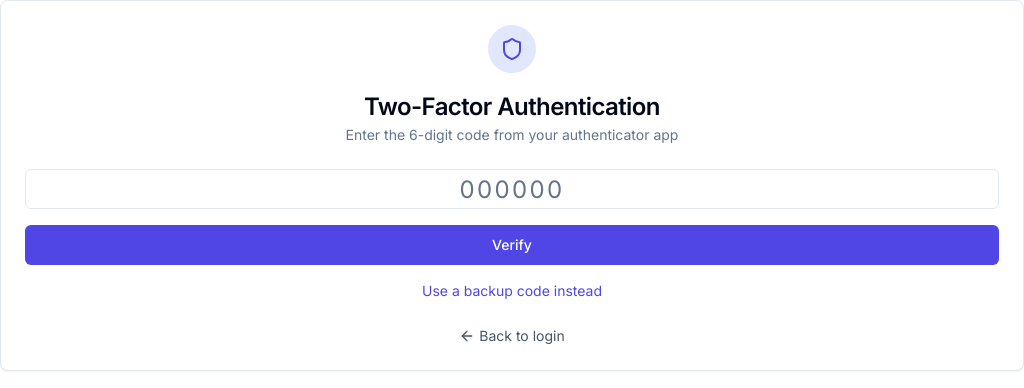
Test: TwoFactorPage › Backup Code Flow › should switch to backup code form
Click the button "Use a backup code instead".
click(512, 291)  # box [25,281,999,301]
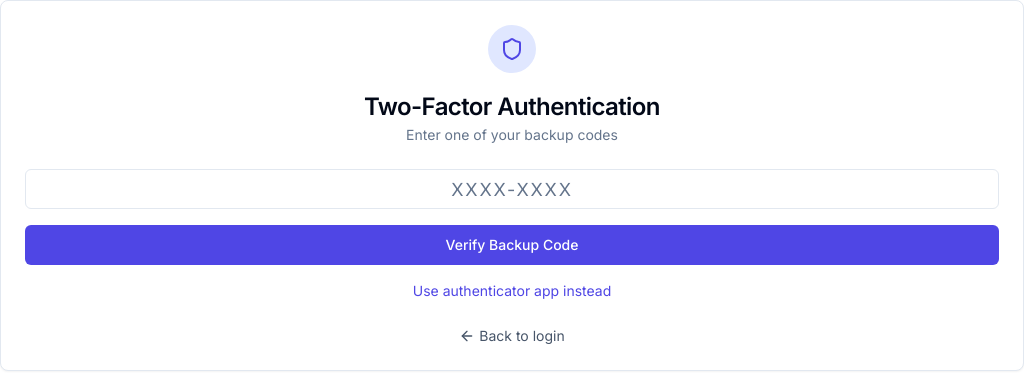
Expected: the text "Enter one of your backup codes" is shown, [406,126,618,143]
Expected: the field with placeholder "XXXX-XXXX" is shown, [25,169,999,209]
